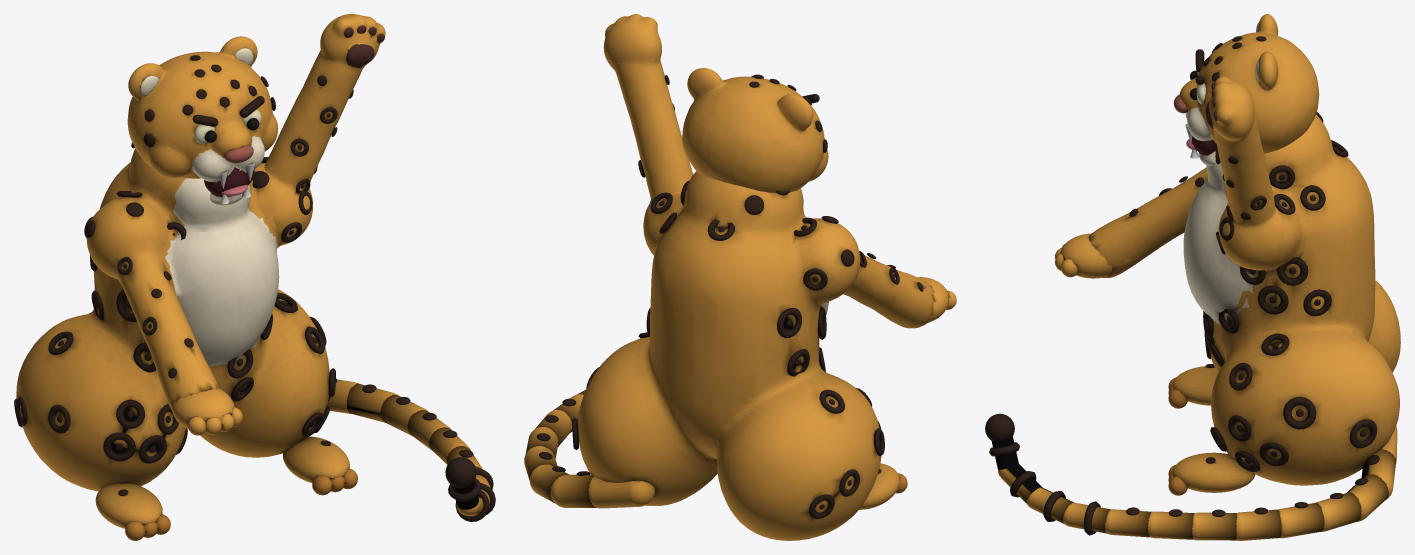
File: kan-vi-dela-pa-notan.glb
3 views of the same model, side by side, from view 1: azimuth 30°, elevation 25°; view 2: azimuth 150°, elevation 25°; view 3: azimuth 270°, elevation 25° (orthographic). The views are drawn at different scales.
Parts seen in each view (by area): view 1: onca__r0, cabeca__r0, pata__r0, onca__r1, onca__r105, onca__r18, onca__r30, onca__r32, onca__r48, onca__r34, onca__r36, onca__r104 (+1 smaller); view 2: onca__r0, cabeca__r0, pata__r0, onca__r23, onca__r24, onca__r1, onca__r26, onca__r18, onca__r32, onca__r28, onca__r30; view 3: onca__r0, cabeca__r0, pata__r0, onca__r105, onca__r18, onca__r32, onca__r30, onca__r1, onca__r34, onca__r28, onca__r36, onca__r38 (+10 smaller).
Boxes of the visible parts, x1,y1,x2,y2 form: onca__r0: [16, 148, 329, 491]; cabeca__r0: [127, 36, 278, 205]; pata__r0: [264, 14, 385, 245]; onca__r1: [95, 483, 162, 528]; onca__r105: [283, 436, 349, 483]; onca__r18: [172, 388, 234, 433]; onca__r30: [346, 383, 398, 422]; onca__r32: [380, 394, 428, 435]; onca__r48: [445, 457, 476, 488]; onca__r34: [407, 410, 451, 450]; onca__r36: [429, 427, 470, 464]; onca__r104: [103, 432, 135, 461]; onca__r0: [578, 171, 934, 540]; cabeca__r0: [682, 68, 828, 193]; pata__r0: [603, 14, 693, 228]; onca__r23: [588, 476, 655, 508]; onca__r24: [550, 474, 596, 507]; onca__r1: [859, 463, 899, 509]; onca__r26: [529, 464, 568, 502]; onca__r18: [918, 277, 948, 322]; onca__r32: [535, 409, 572, 446]; onca__r28: [524, 446, 557, 479]; onca__r30: [525, 426, 558, 458]; onca__r0: [1089, 114, 1400, 485]; cabeca__r0: [1179, 14, 1319, 166]; pata__r0: [1205, 76, 1285, 269]; onca__r105: [1172, 452, 1255, 492]; onca__r18: [1060, 233, 1112, 278]; onca__r32: [1236, 509, 1281, 540]; onca__r30: [1278, 502, 1324, 538]; onca__r1: [1172, 366, 1217, 405]; onca__r34: [1192, 512, 1236, 540]; onca__r28: [1316, 492, 1361, 531]; onca__r36: [1148, 511, 1194, 539]; onca__r38: [1105, 509, 1151, 537].
Size of the model in its own units: 2.03 by 2.38 by 2.1.
